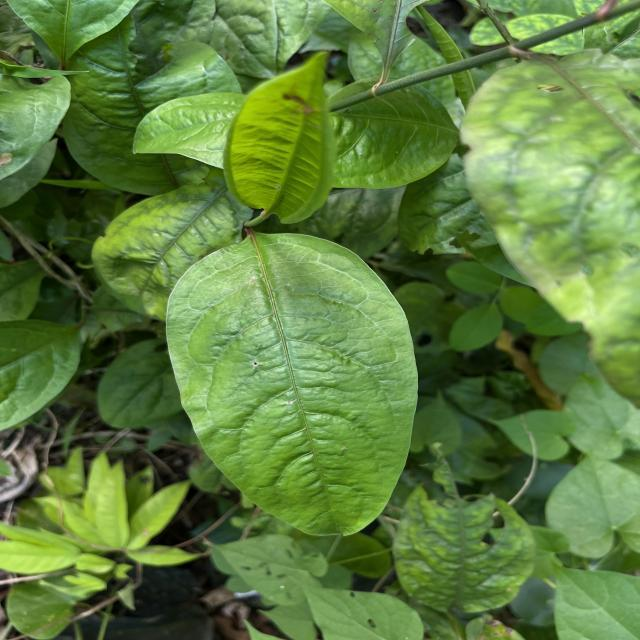Plumbago indica: (160, 228, 426, 544), (214, 42, 342, 232)
